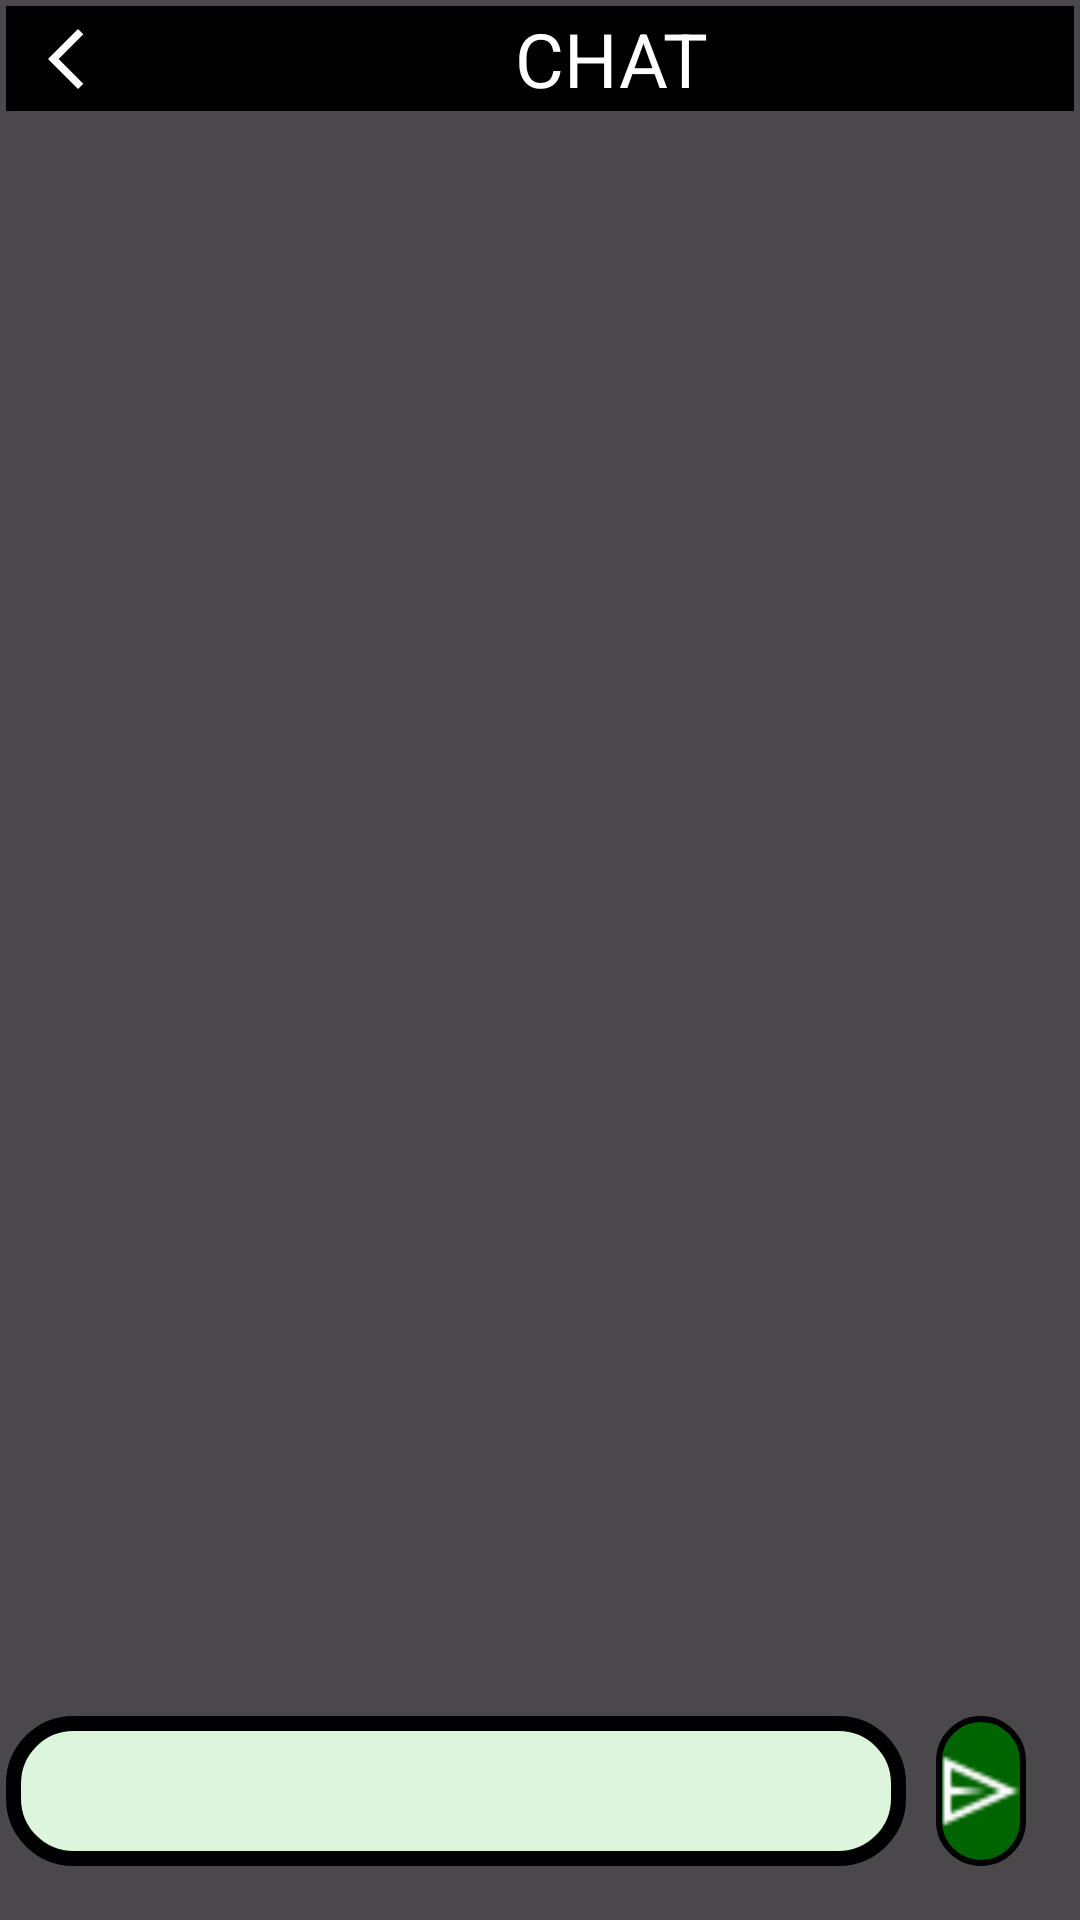

Point at icon controls on the screen. Image size 1080px×1920px, points as [x,y].
flechita atras blanco: [65,58]
flechita enviar blanco: [981,1791]
